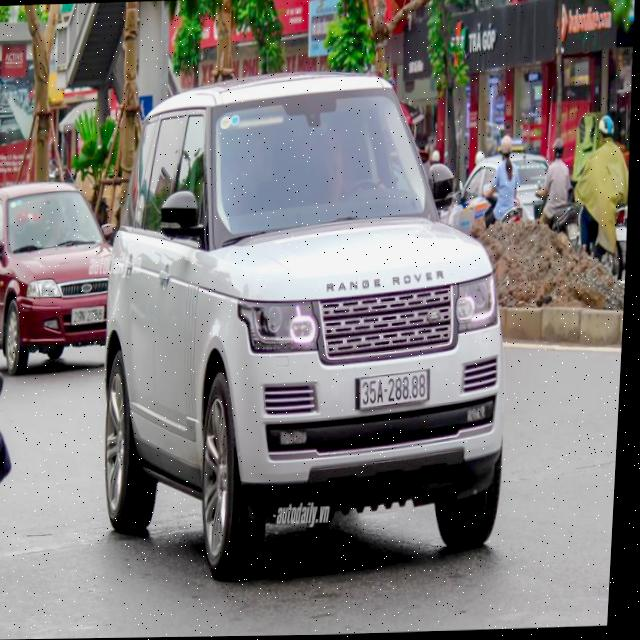car: (97, 58, 523, 559), (0, 177, 124, 377)
plate: (352, 366, 435, 411), (67, 300, 107, 328)
